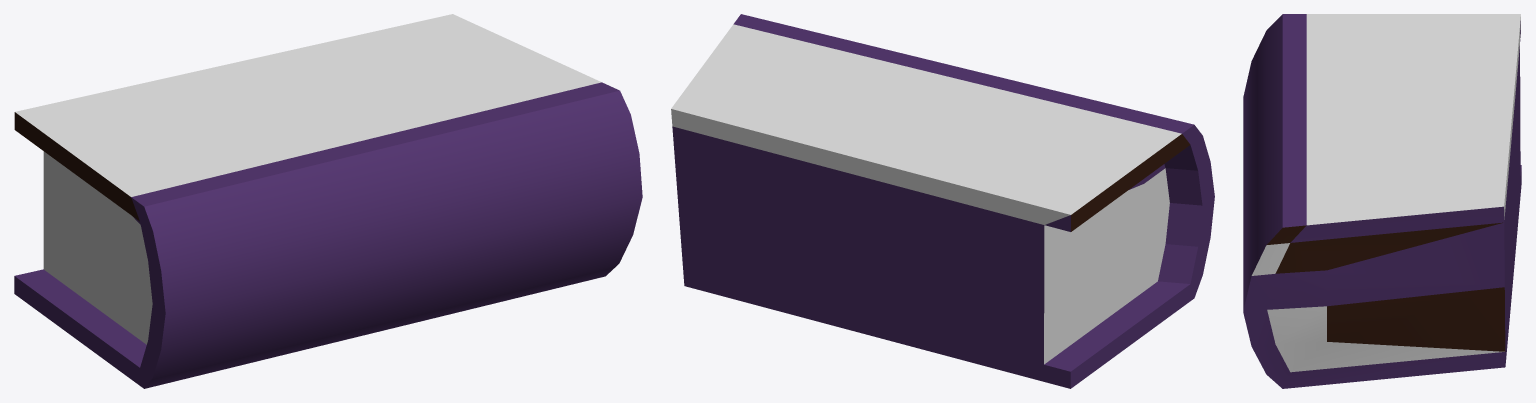
Rendered from Livre_Part_4.fbx.
3 views of the same model, side by side, from view 1: azimuth 30°, elevation 25°; view 2: azimuth 150°, elevation 25°; view 3: azimuth 270°, elevation 25° (orthographic). The views are drawn at different scales.
Visible parts, largest first — view 1: Livre_Part_4; view 2: Livre_Part_4; view 3: Livre_Part_4.
Boxes of the visible parts, x1=… form: Livre_Part_4: x1=14, y1=14, x2=642, y2=388; Livre_Part_4: x1=671, y1=14, x2=1214, y2=388; Livre_Part_4: x1=1243, y1=14, x2=1521, y2=388.
Size of the model in its own units: 17.18 by 6.26 by 9.42.
